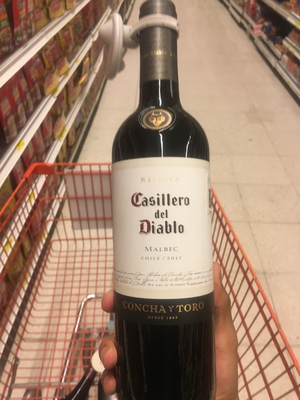casillero del diablo malbec: (106, 8, 231, 400)
